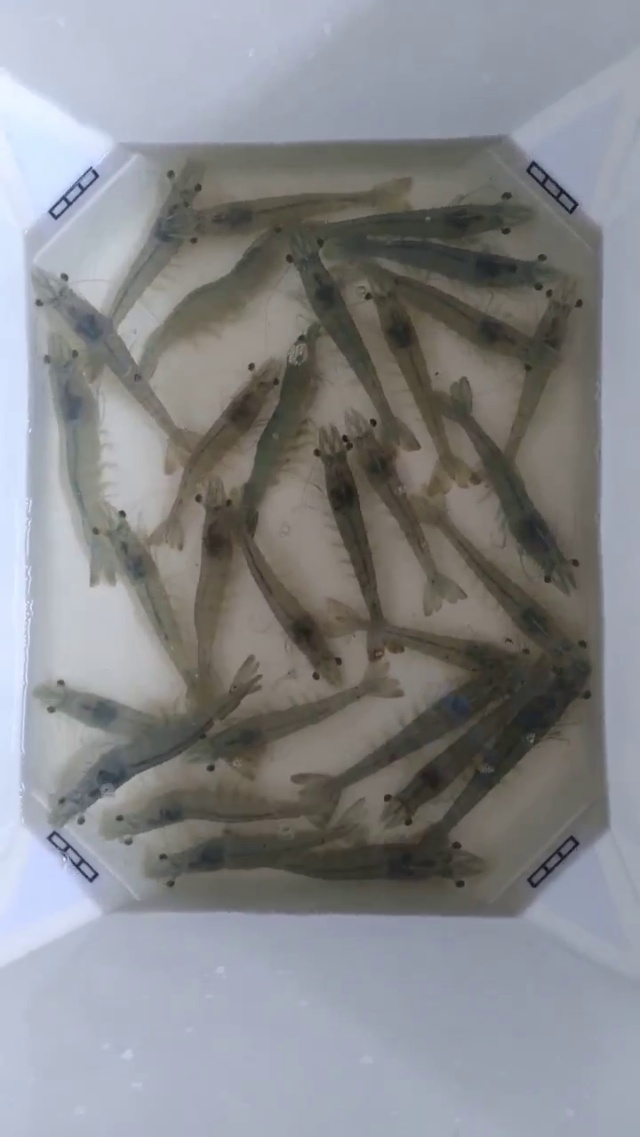shrimp: (525, 108, 639, 486), (555, 419, 639, 717), (306, 264, 418, 450), (151, 473, 255, 663), (575, 507, 639, 797), (71, 293, 188, 450), (63, 749, 179, 907), (37, 678, 163, 821), (149, 384, 256, 549), (83, 499, 184, 669), (396, 761, 509, 909), (139, 759, 246, 909), (183, 160, 284, 317), (444, 524, 571, 646), (259, 190, 372, 326), (174, 654, 262, 819), (115, 161, 202, 319), (32, 266, 136, 387), (335, 714, 424, 847), (190, 355, 284, 470), (455, 189, 563, 289), (64, 426, 131, 585), (268, 582, 367, 686), (0, 561, 32, 784)
